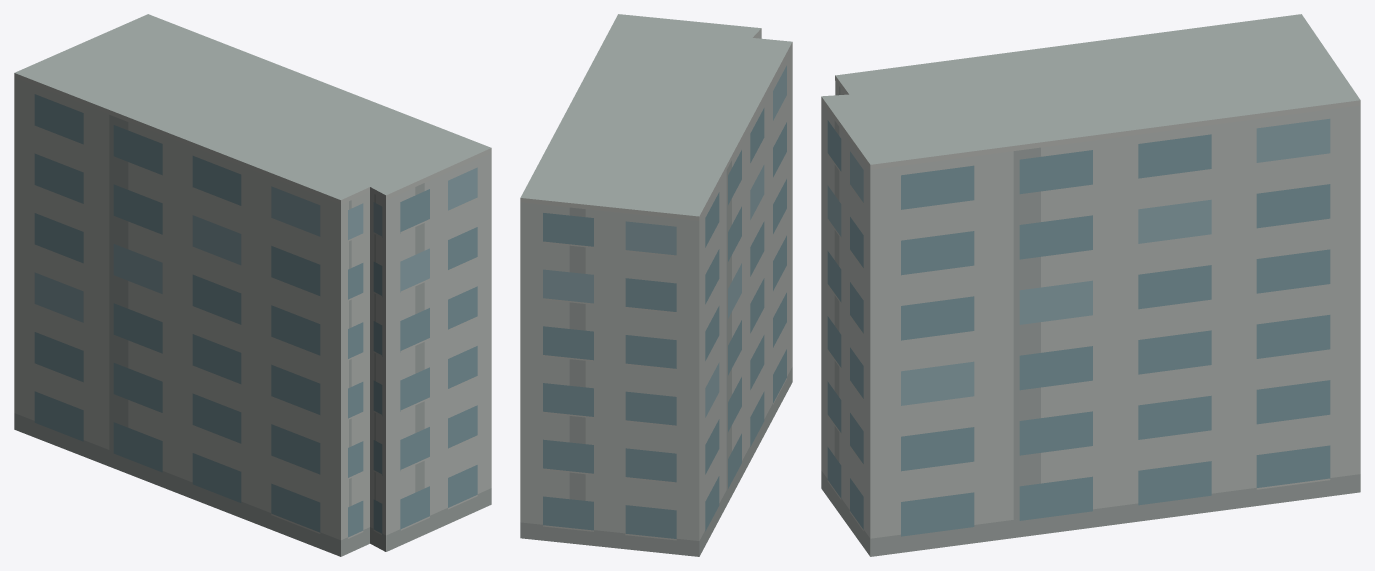
Rendered from survey-upis-32810768.glb.
3 views of the same model, side by side, from view 1: azimuth 30°, elevation 25°; view 2: azimuth 150°, elevation 25°; view 3: azimuth 270°, elevation 25° (orthographic). The views are drawn at different scales.
Parts seen in each view (by area): view 1: survey-upis-32810768.tmp; view 2: survey-upis-32810768.tmp; view 3: survey-upis-32810768.tmp.
Part boxes in pixels (left/top/right/bottom): survey-upis-32810768.tmp: left=14, top=14, right=491, bottom=556; survey-upis-32810768.tmp: left=520, top=14, right=792, bottom=556; survey-upis-32810768.tmp: left=821, top=14, right=1360, bottom=556.
Size of the model in its own units: 15.11 by 18.3 by 22.83.
